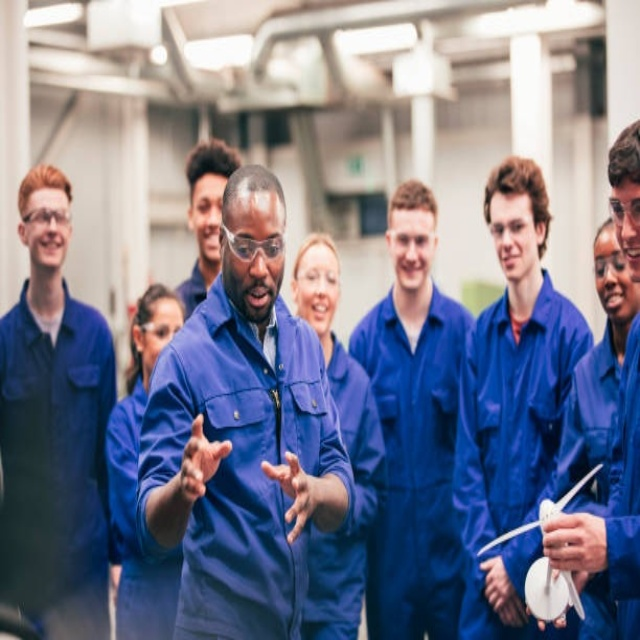Gafas: (221, 222, 287, 262), (488, 215, 535, 239), (388, 228, 435, 249), (22, 207, 73, 226), (594, 254, 630, 280), (610, 196, 638, 223), (297, 270, 339, 287), (138, 321, 182, 337)
Sin_gafas: (187, 191, 222, 220)
Sin_guantes: (261, 445, 317, 542), (178, 409, 233, 500), (542, 511, 607, 577), (479, 553, 530, 628)
Sin_mascara: (498, 249, 525, 278), (245, 287, 273, 305), (38, 234, 64, 249), (604, 287, 625, 305), (624, 246, 637, 275), (399, 262, 424, 277), (201, 229, 219, 242), (311, 303, 329, 315)
